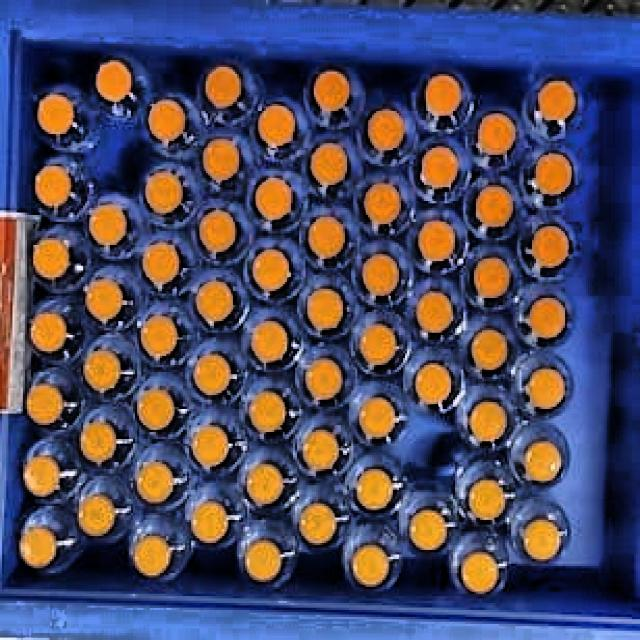vial: (413, 360, 454, 406), (248, 389, 288, 434), (191, 499, 230, 544), (191, 424, 230, 469), (468, 328, 508, 371), (198, 207, 237, 251), (523, 518, 562, 562), (135, 461, 174, 505), (141, 241, 180, 285), (351, 542, 388, 588), (18, 527, 59, 568), (534, 151, 572, 195), (469, 477, 507, 521), (250, 320, 288, 364), (140, 314, 178, 358), (30, 237, 68, 281), (423, 143, 459, 189), (526, 368, 566, 409), (194, 283, 234, 324), (87, 204, 126, 246), (528, 295, 567, 337), (355, 468, 394, 510), (77, 495, 116, 537), (79, 422, 118, 464), (84, 278, 123, 320), (148, 98, 186, 141), (255, 178, 293, 221), (258, 105, 296, 148), (306, 288, 344, 331), (244, 539, 282, 582), (205, 65, 242, 109), (95, 58, 131, 103), (132, 536, 171, 577), (462, 550, 499, 593), (410, 508, 447, 551), (470, 401, 507, 444), (247, 463, 284, 506), (475, 113, 514, 153), (37, 94, 75, 135), (523, 441, 561, 482), (476, 187, 514, 228), (363, 183, 401, 224), (299, 504, 337, 545), (26, 383, 64, 424), (83, 350, 121, 391), (34, 163, 71, 205), (202, 139, 239, 181), (532, 226, 569, 268), (147, 170, 183, 213), (426, 73, 462, 116), (29, 312, 68, 351), (538, 79, 575, 120), (252, 250, 289, 291), (362, 255, 399, 296), (305, 360, 342, 401), (309, 216, 345, 258), (314, 69, 349, 112), (369, 108, 404, 151), (312, 142, 347, 185), (193, 354, 230, 394), (137, 389, 174, 429), (360, 325, 396, 365), (474, 258, 510, 298), (304, 430, 339, 470), (23, 456, 58, 496), (417, 294, 453, 332), (418, 222, 454, 260), (360, 397, 395, 436)
